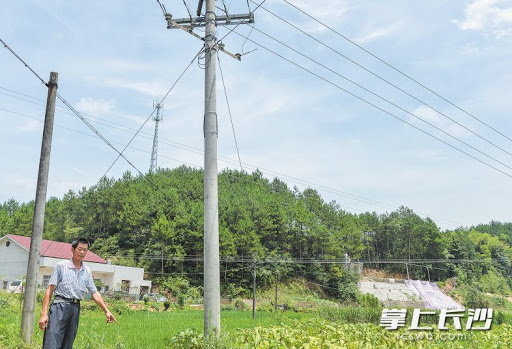utility_pole: (147, 1, 266, 72)
